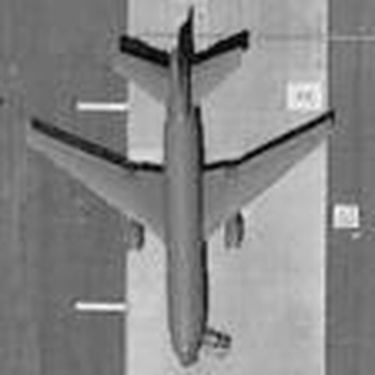airplane: (12, 12, 339, 365)
